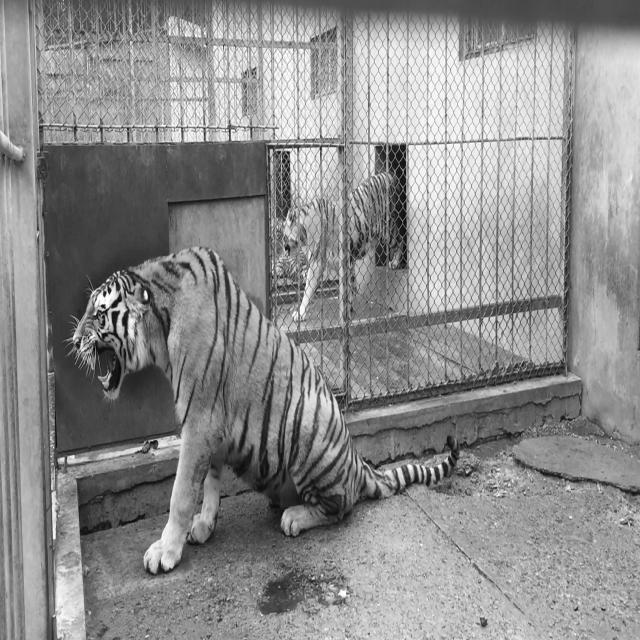Tiger: (62, 243, 460, 575), (278, 168, 403, 323)
